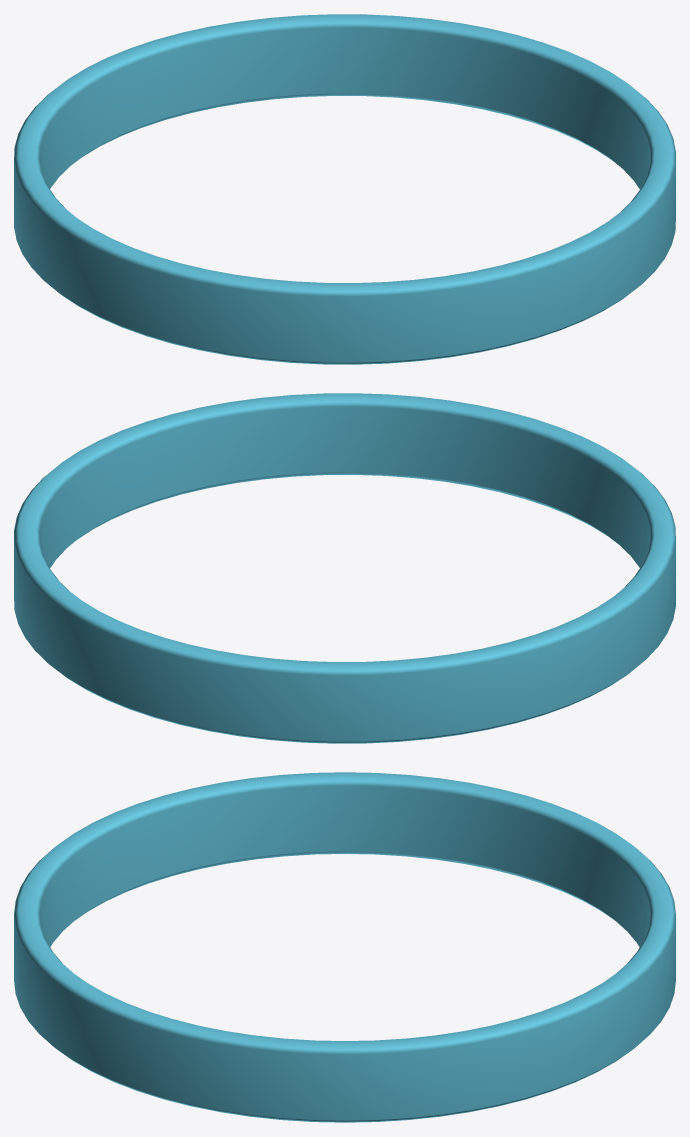
3 renders of one model, top to bottom at view 1: azimuth 30°, elevation 25°; view 2: azimuth 150°, elevation 25°; view 3: azimuth 270°, elevation 25°, orthographic.
Parts seen in each view (by area): view 1: seal_body; view 2: seal_body; view 3: seal_body.
Boxes of the visible parts, <box> form: seal_body: <box>14,14,675,364</box>; seal_body: <box>14,393,675,743</box>; seal_body: <box>14,772,675,1122</box>.
Size of the model in its own units: 0.1274 by 0.0159 by 0.1274.
